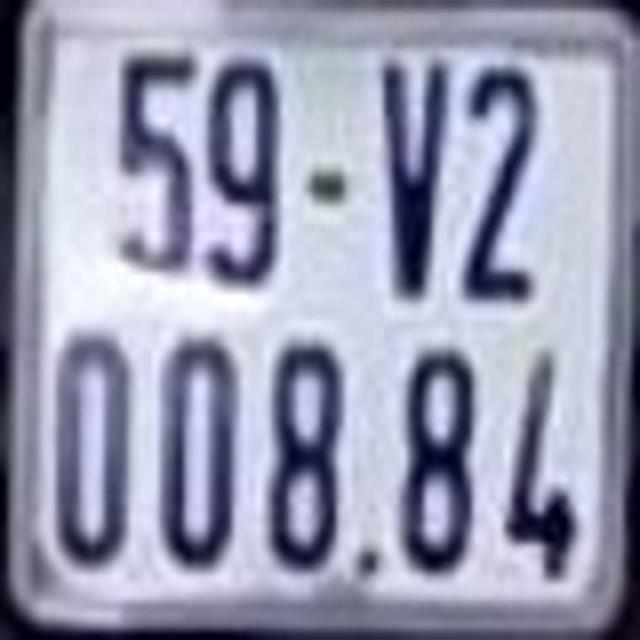0: (48, 330, 132, 575), (153, 327, 234, 576)
2: (457, 59, 539, 308)
4: (500, 337, 580, 594)
5: (118, 50, 198, 269)
8: (394, 337, 478, 584), (264, 328, 340, 577)
9: (201, 51, 282, 296)
V: (375, 56, 453, 300)
